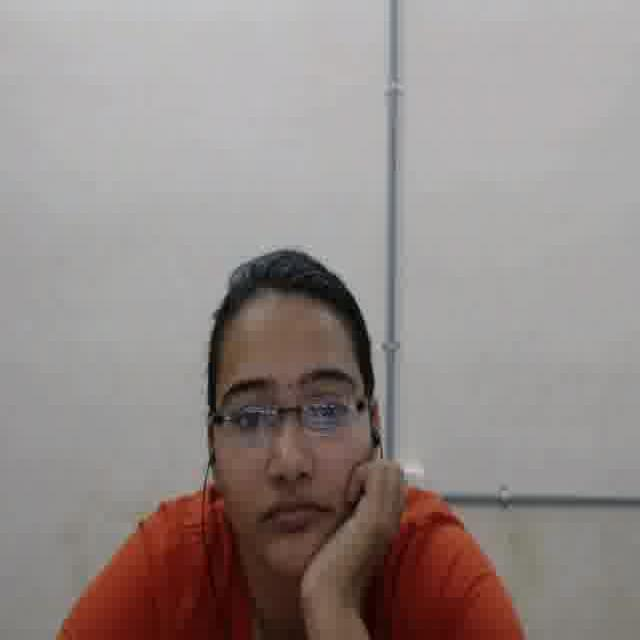Boredom: (210, 315, 368, 580)
